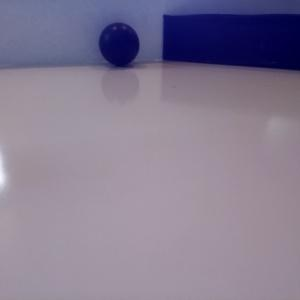zone: (162, 14, 300, 71)
